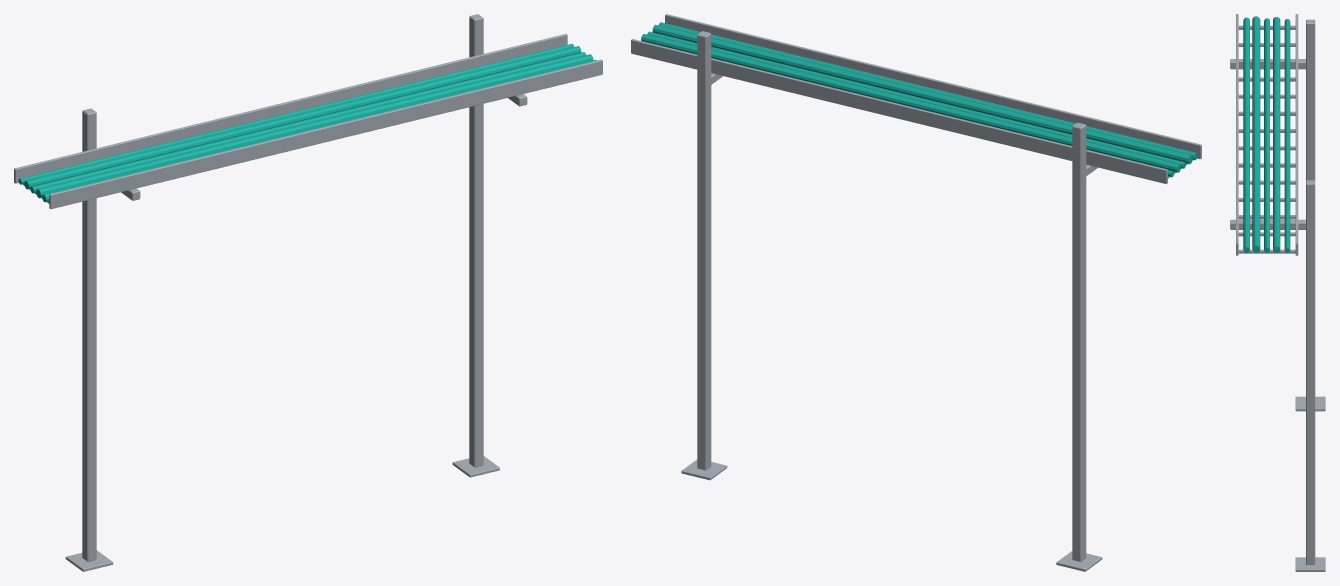
Rendered from cable-tray-run.glb.
3 views of the same model, side by side, from view 1: azimuth 30°, elevation 25°; view 2: azimuth 150°, elevation 25°; view 3: azimuth 270°, elevation 25° (orthographic). The views are drawn at different scales.
Visible parts, largest first — view 1: cable-tray-run; view 2: cable-tray-run; view 3: cable-tray-run.
Part boxes in pixels (x1,y1,x2,y2): cable-tray-run: (14,14,602,571); cable-tray-run: (631,14,1201,571); cable-tray-run: (1230,14,1325,571).
Size of the model in its own units: 4 by 3.12 by 0.7.
